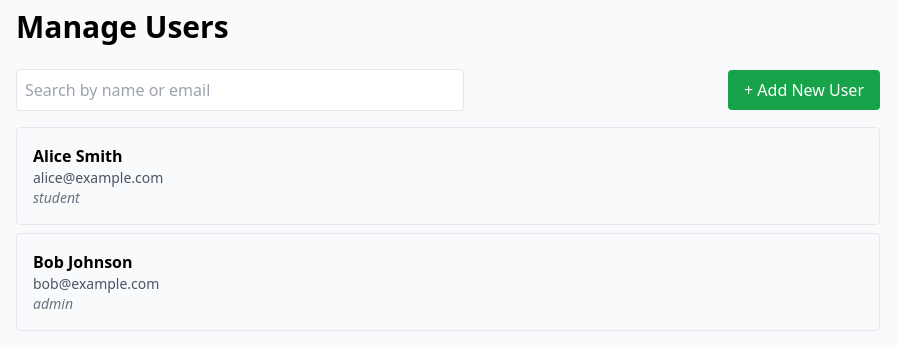
Test: UsersAdmin › filters users by search input
Type "alice" into the field with placeholder "Search by name or email" at (240, 90), box x1=16 y1=69 x2=464 y2=111
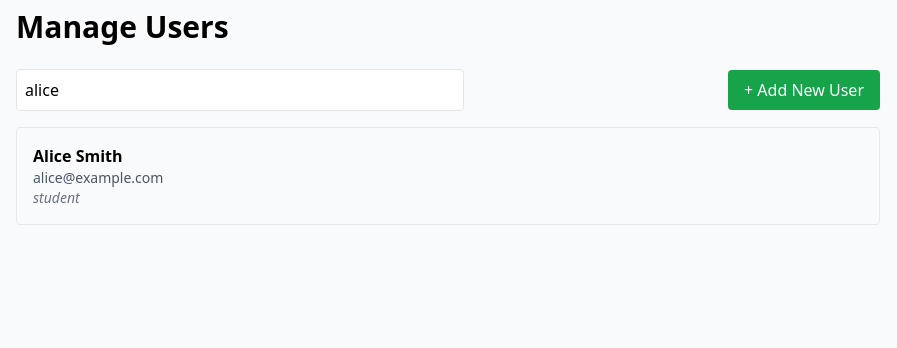
Expected: the text "Alice Smith" is shown, x1=33 y1=145 x2=122 y2=167
Expected: the text "Bob Johnson" is gone
